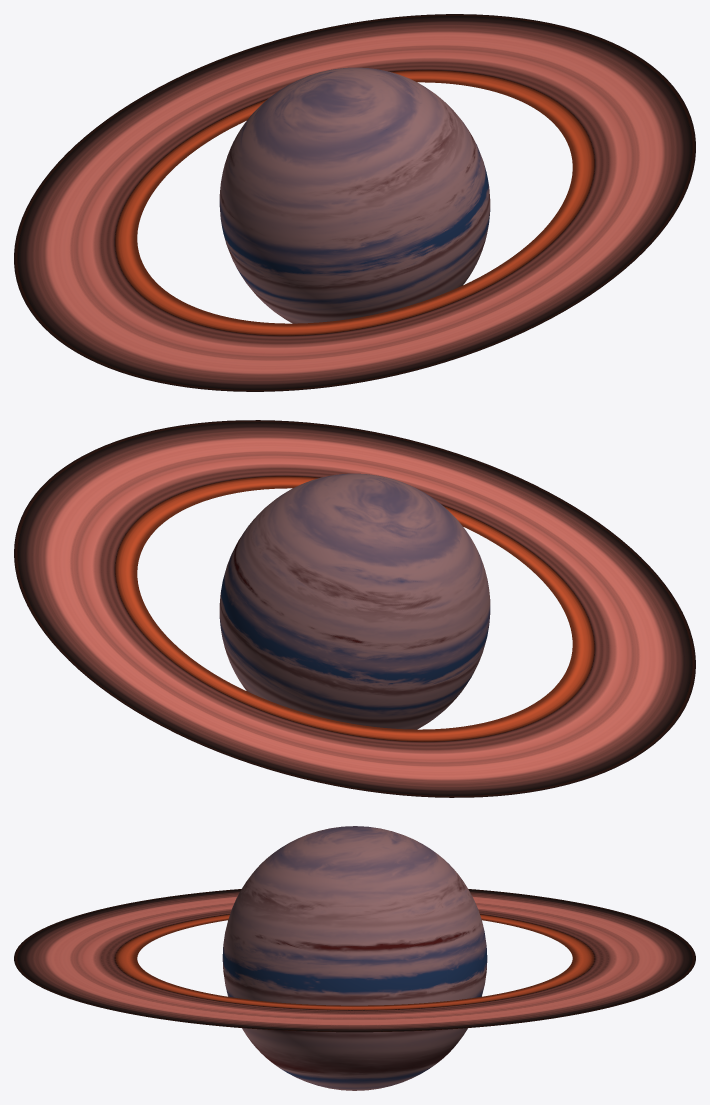
Rendered from jupiter.glb.
The picture shows the model from 3 angles, top to bottom: view 1: azimuth 30°, elevation 25°; view 2: azimuth 150°, elevation 25°; view 3: azimuth 270°, elevation 25°; orthographic projection.
Visible parts, largest first — view 1: space_object_001_gas_giant; view 2: space_object_001_gas_giant; view 3: space_object_001_gas_giant.
Boxes of the visible parts, x1,y1,x2,y2 form: space_object_001_gas_giant: [14, 14, 695, 391]; space_object_001_gas_giant: [14, 420, 695, 797]; space_object_001_gas_giant: [14, 826, 695, 1090].
Size of the model in its own units: 25.2 by 10.02 by 25.81.
2 materials, 2 textured.
